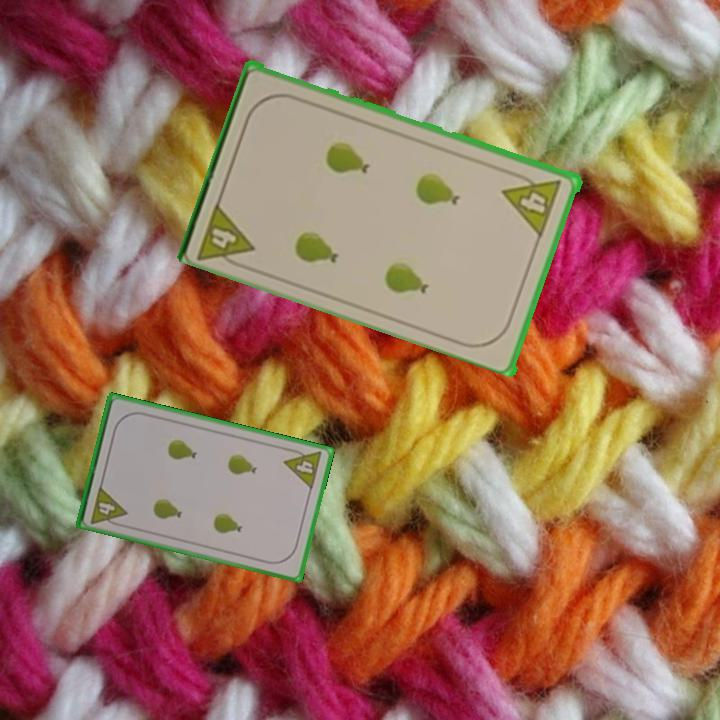4p: (193, 196, 259, 273), (500, 167, 565, 238), (281, 444, 325, 492), (87, 482, 130, 530)
